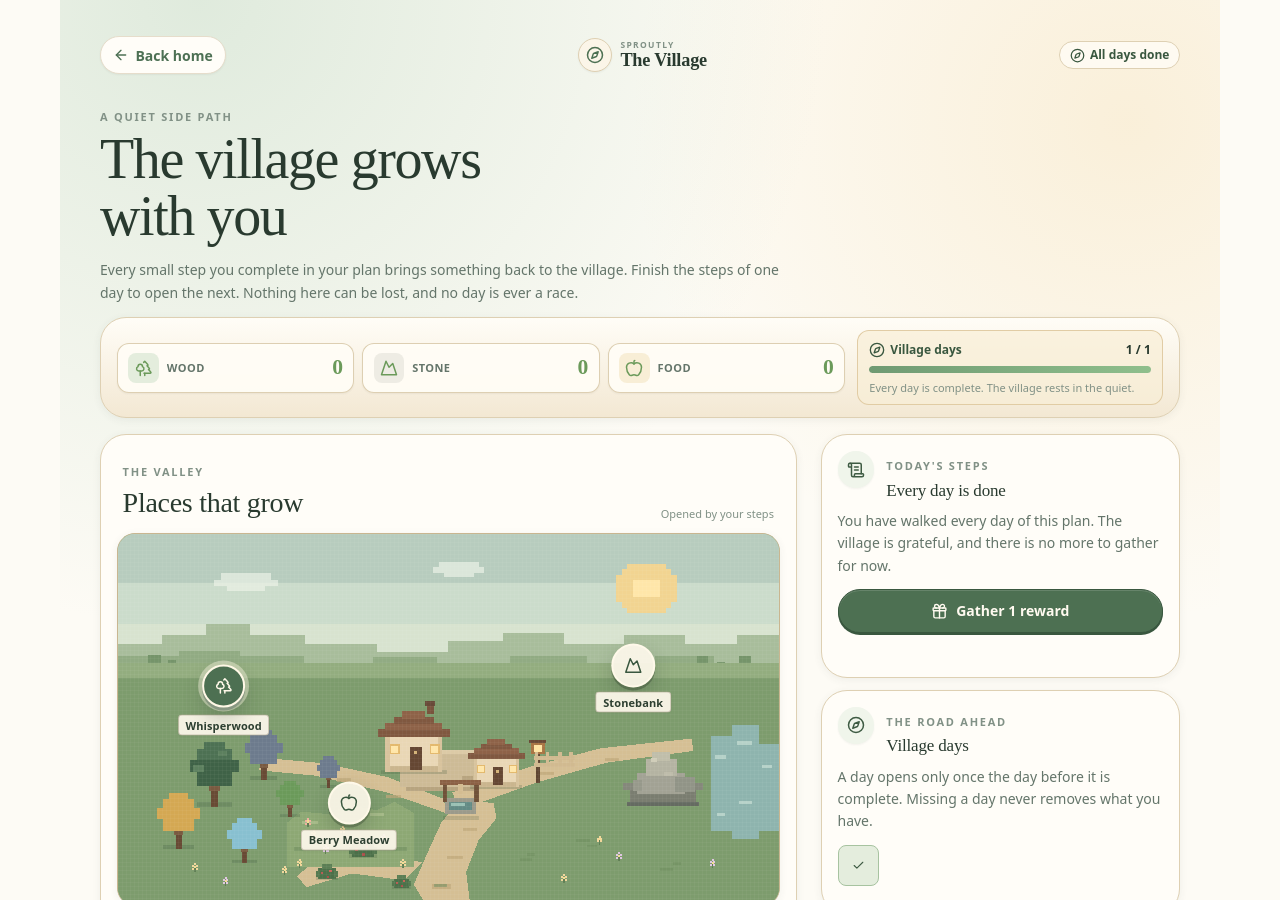
Test case: AdventurePage › gathers a reward only after a step is complete
Click the button "Gather 1 reward". click: click(1000, 611)
box: [838,589,1163,633]
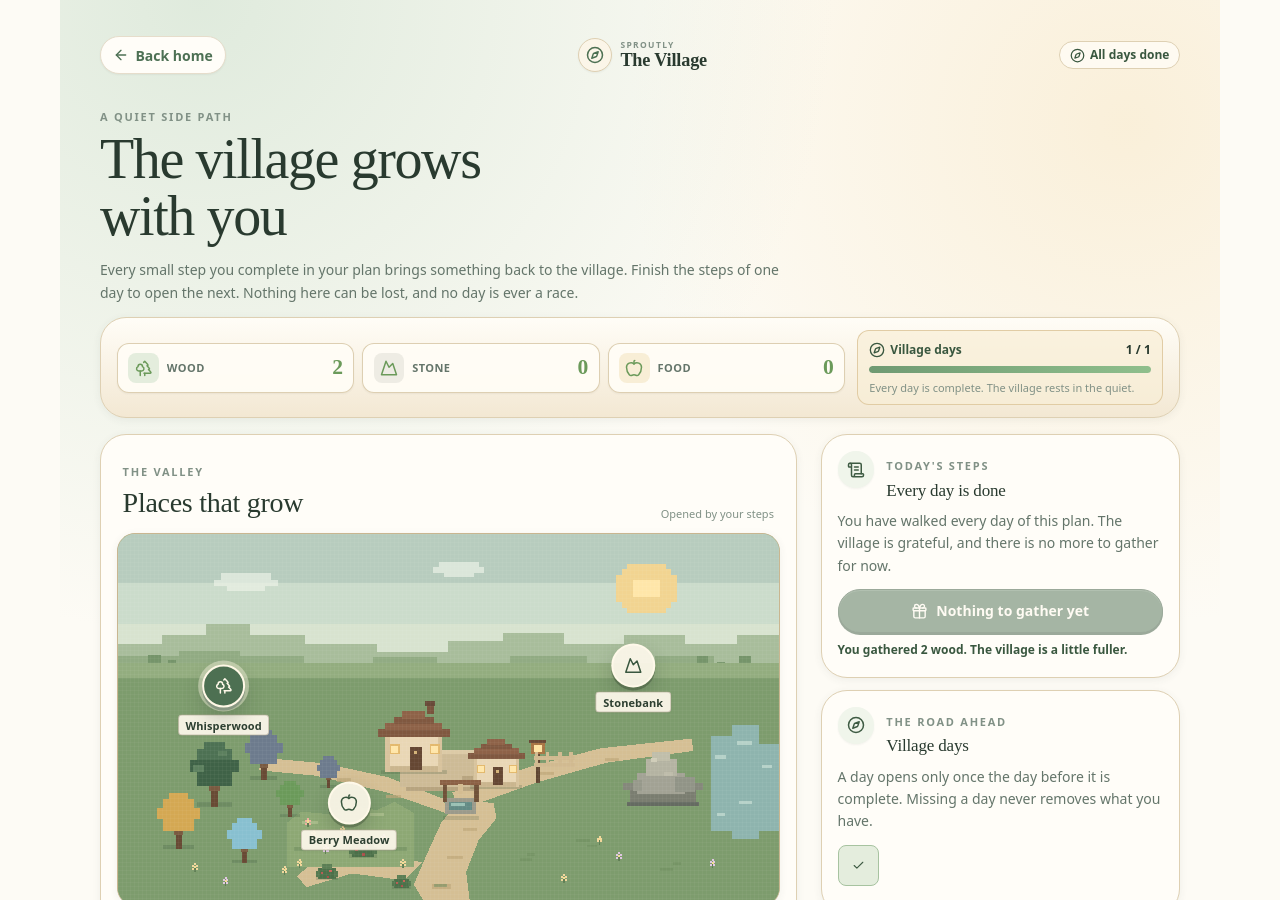
Result: the list item with aria-label "Wood: 2" is shown at [117,343,354,393]
Result: the message shows "gathered 2 wood" at [838,641,1127,658]
